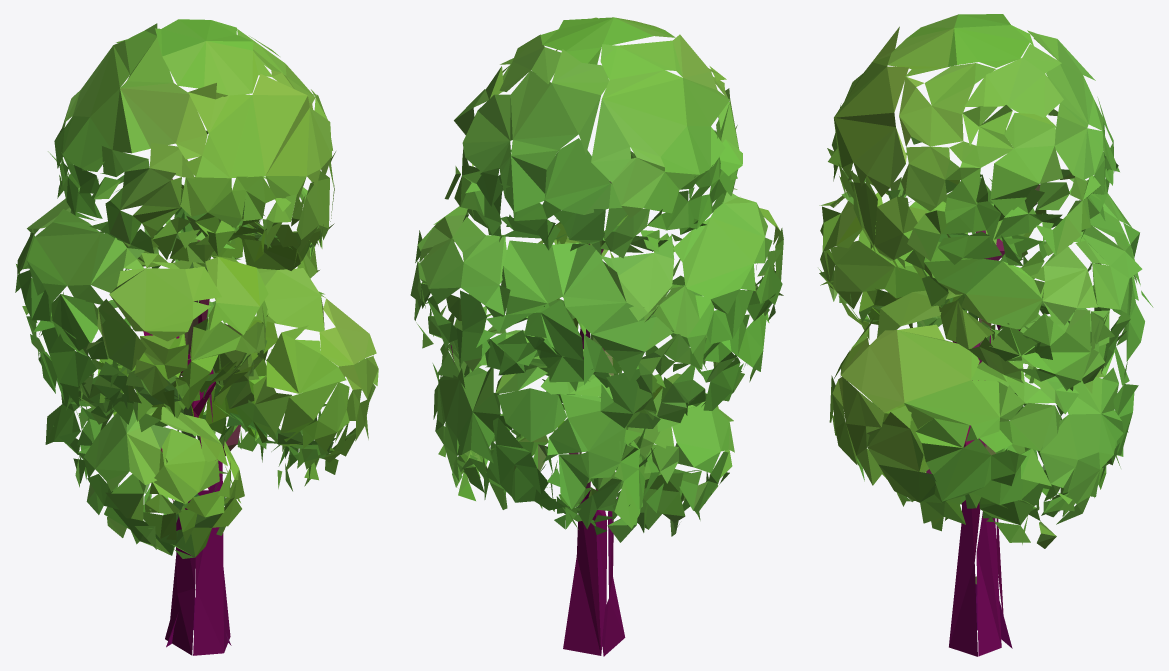
File: tree-tall.glb
3 views of the same model, side by side, from view 1: azimuth 30°, elevation 25°; view 2: azimuth 150°, elevation 25°; view 3: azimuth 270°, elevation 25° (orthographic).
Visible parts, largest first — view 1: source; view 2: source; view 3: source.
Part boxes in pixels (<box>): source: <box>15,19,378,655</box>; source: <box>410,17,783,656</box>; source: <box>818,14,1153,656</box>.
Size of the model in its own units: 1.03 by 1.99 by 0.9906.
